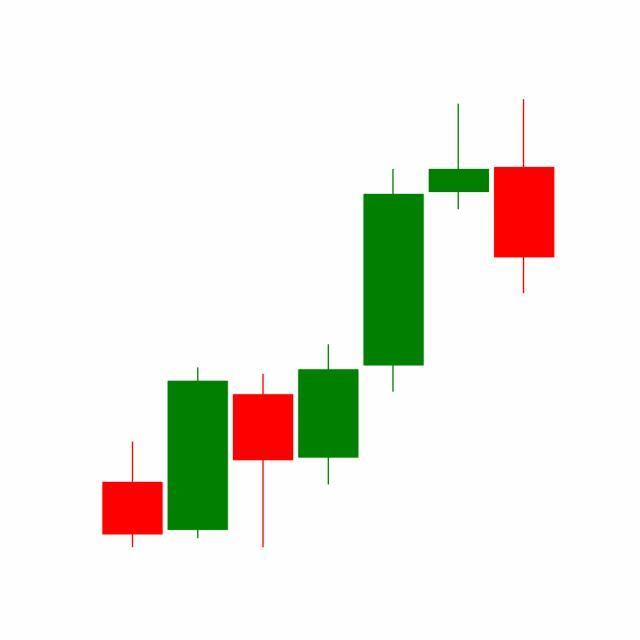Evening Star: (360, 99, 556, 396)
